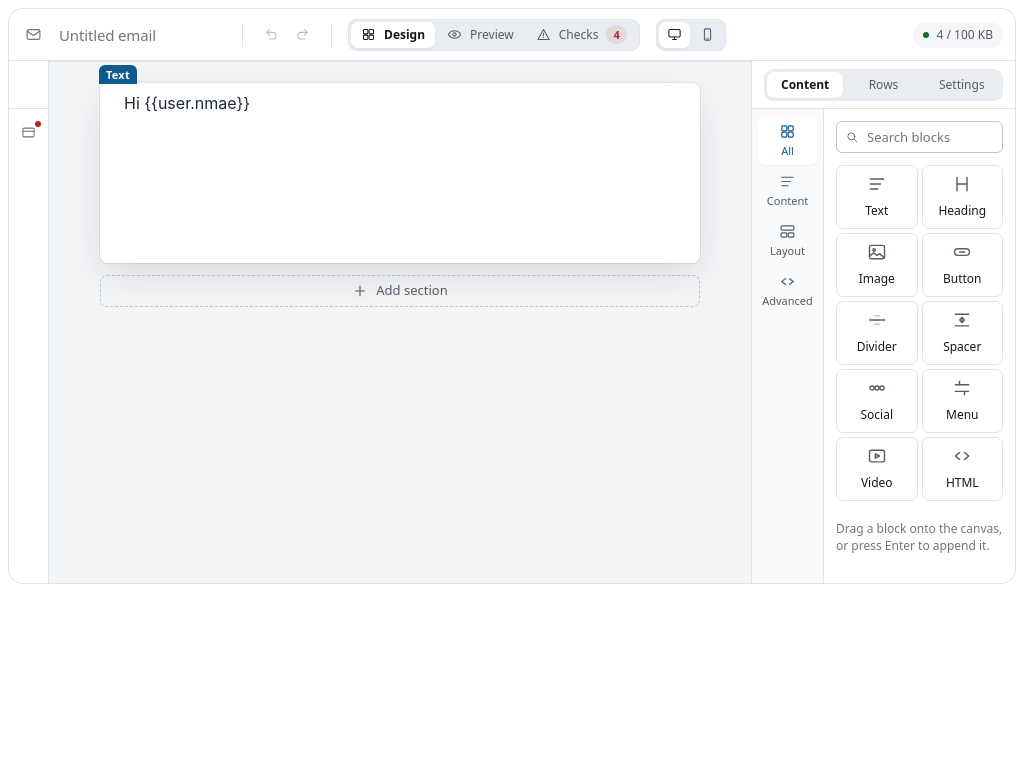
consumer configuration › runs against declared merge variables
Click the tab "Checks 4" at coordinates (581, 34), box top-left (526, 22), bottom-right (637, 48)
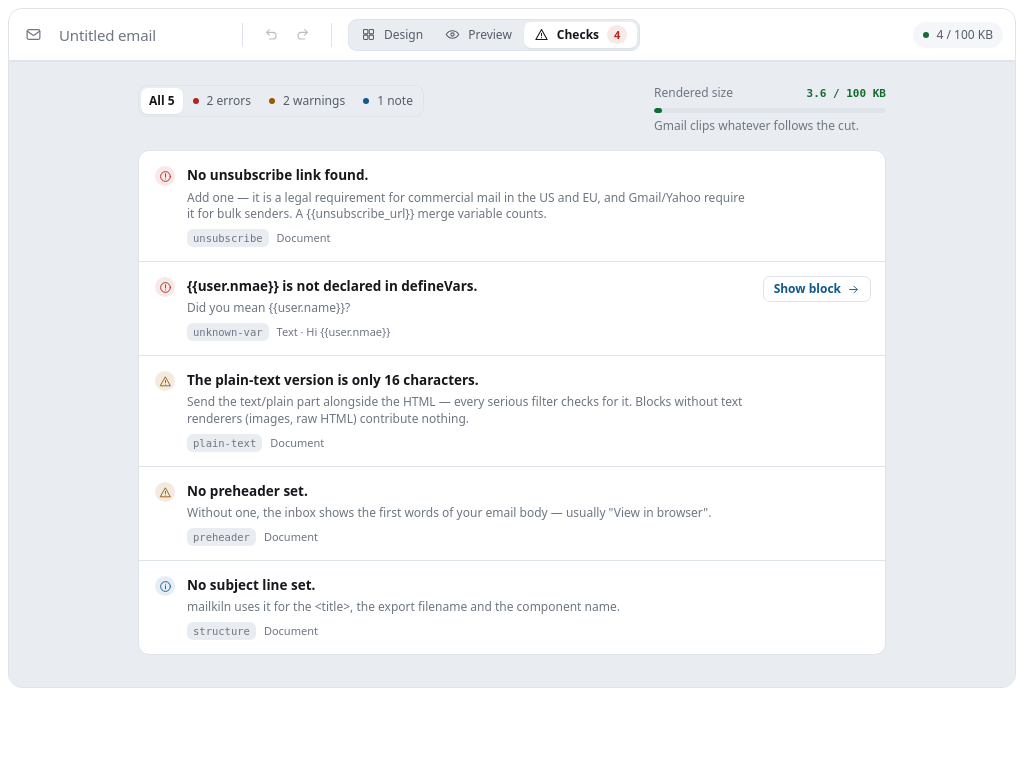
Expected: the text "{{user.nmae}} is not declared in defineVars." is shown, top-left (187, 277), bottom-right (477, 295)
